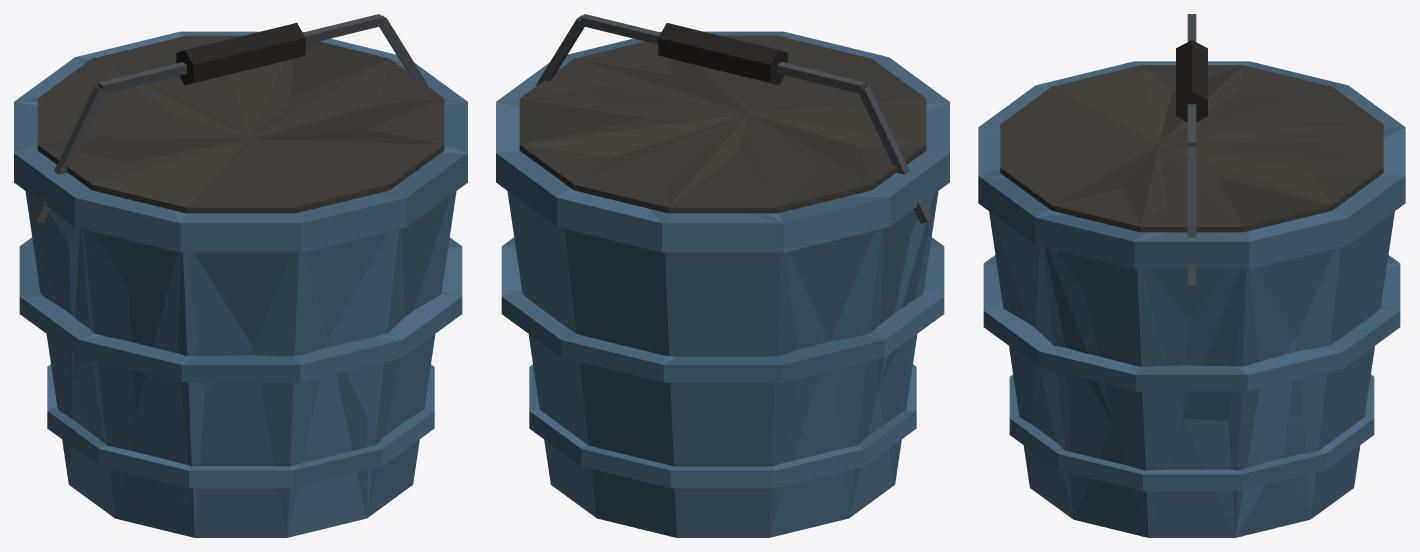
Rendered from bucket_plastikovoe_idle.glb.
3 renders of one model, left to right at view 1: azimuth 30°, elevation 25°; view 2: azimuth 150°, elevation 25°; view 3: azimuth 270°, elevation 25°, orthographic. The views are drawn at different scales.
Visible parts, largest first — view 1: bucket_plastikovoe_idle; view 2: bucket_plastikovoe_idle; view 3: bucket_plastikovoe_idle.
Part boxes in pixels (box(x1,y1,x2,y2)): bucket_plastikovoe_idle: box(14, 14, 467, 537); bucket_plastikovoe_idle: box(496, 14, 949, 537); bucket_plastikovoe_idle: box(978, 14, 1405, 537).
Size of the model in its own units: 0.2949 by 0.292 by 0.2801.
1 material, 1 textured.
